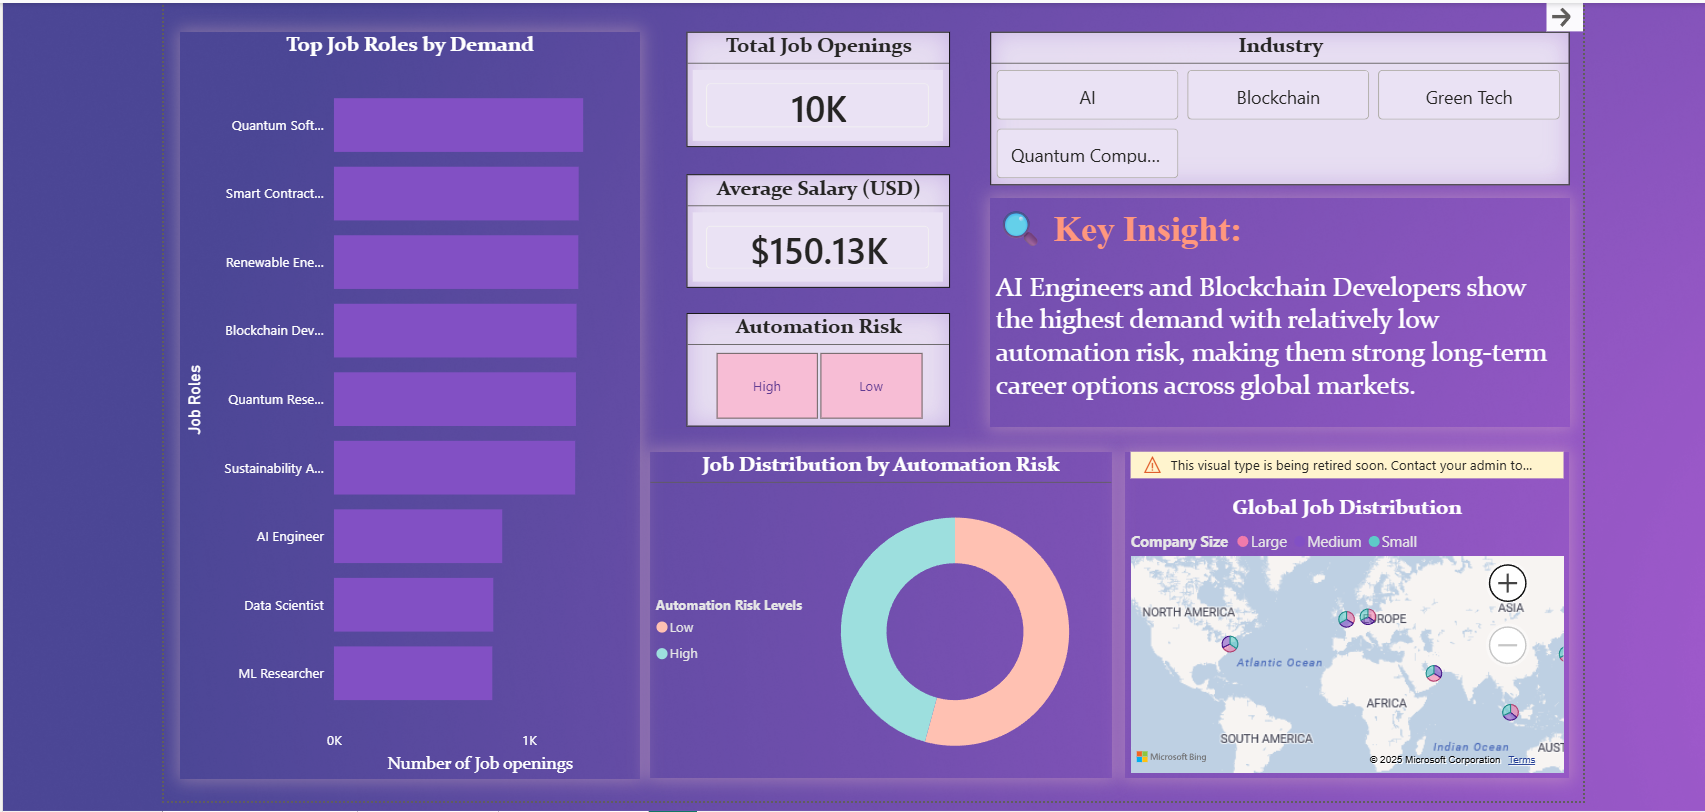

The page's visual inventory and layout, read from the dashboard file:
{"tool":"powerbi","page":{"name":"Job Market Overview","canvas":[1280,720],"ordinal":0},"visuals":[{"type":"clusteredBarChart","title":"Top Job Roles by Demand","fields":{"Category":["future_jobs_dataset.job_title"],"Y":["CountNonNull(future_jobs_dataset.job_id)"]},"box":[14.7,25.7,414.5,673.8],"z":0},{"type":"cardVisual","title":"Average Salary (USD)","fields":{"Data":["future_jobs_dataset.Average Salary"]},"box":[470.8,154.1,237.2,102.7],"z":1000},{"type":"donutChart","title":"Job Distribution by Automation Risk","fields":{"Category":["future_jobs_dataset.Automation Risk"],"Y":["CountNonNull(future_jobs_dataset.job_id)"]},"box":[439,404.8,415.8,294.7],"z":2000},{"type":"map","title":"Global Job Distribution","fields":{"Category":["future_jobs_dataset.location"],"Size":["CountNonNull(future_jobs_dataset.job_id)"],"Series":["future_jobs_dataset.Company Size"]},"box":[867,404.8,399.9,294.7],"z":3000},{"type":"cardVisual","title":"Total Job Openings","fields":{"Data":["CountNonNull(future_jobs_dataset.job_id)"]},"box":[470.8,25.7,237.2,103.9],"z":4000},{"type":"advancedSlicerVisual","fields":{"Values":["future_jobs_dataset.Industry"]},"box":[744.7,25.7,522.1,138.2],"z":5000},{"type":"slicer","title":"Automation Risk","fields":{"Values":["future_jobs_dataset.Automation Risk"]},"box":[470.8,280,237.2,102.7],"z":6000},{"type":"textbox","box":[744.7,176.1,522.1,206.7],"z":7000},{"type":"actionButton","box":[1246.1,0,34.2,25.7],"z":8000}]}

Visuals, with their boxes on the page's 1280x720 design canvas (x1, y1, x2, y2). These are canvas units, not pixel positions in the 1705x812 screenshot, which may show the page scaled, cropped or inside an application window:
"Top Job Roles by Demand" clusteredBarChart: (x1=15, y1=26, x2=429, y2=700)
"Average Salary (USD)" cardVisual: (x1=471, y1=154, x2=708, y2=257)
"Job Distribution by Automation Risk" donutChart: (x1=439, y1=405, x2=855, y2=700)
"Global Job Distribution" map: (x1=867, y1=405, x2=1267, y2=700)
"Total Job Openings" cardVisual: (x1=471, y1=26, x2=708, y2=130)
advancedSlicerVisual - future_jobs_dataset.Industry: (x1=745, y1=26, x2=1267, y2=164)
"Automation Risk" slicer: (x1=471, y1=280, x2=708, y2=383)
textbox: (x1=745, y1=176, x2=1267, y2=383)
actionButton: (x1=1246, y1=0, x2=1280, y2=26)
